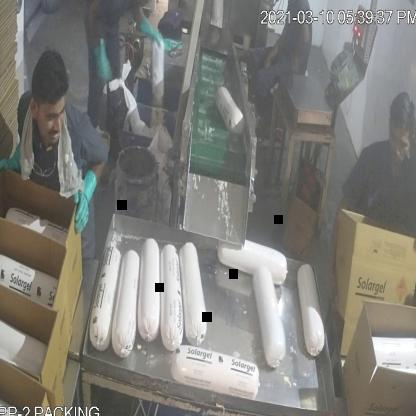glove: (67, 161, 100, 238)
no_glove: (323, 192, 354, 318)
